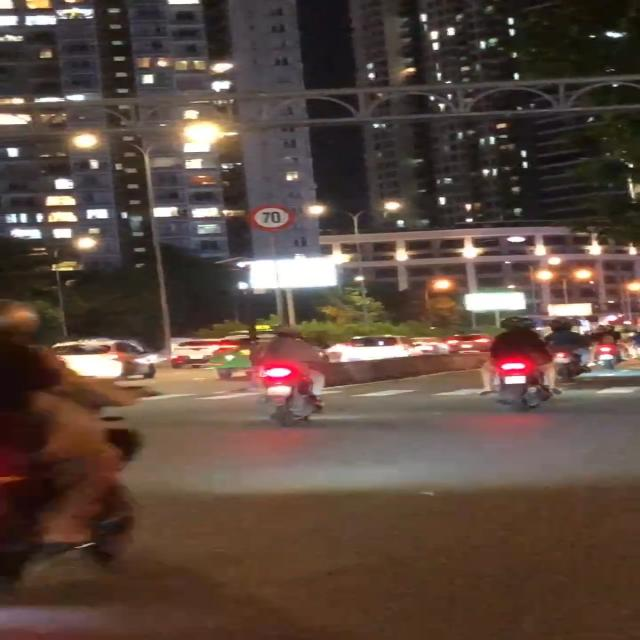Bien bao toc do toi da cho phep: (244, 203, 297, 233)
